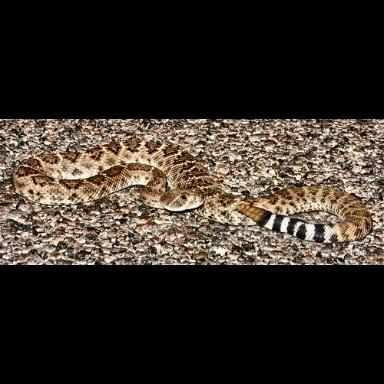snake: (13, 142, 374, 243)
